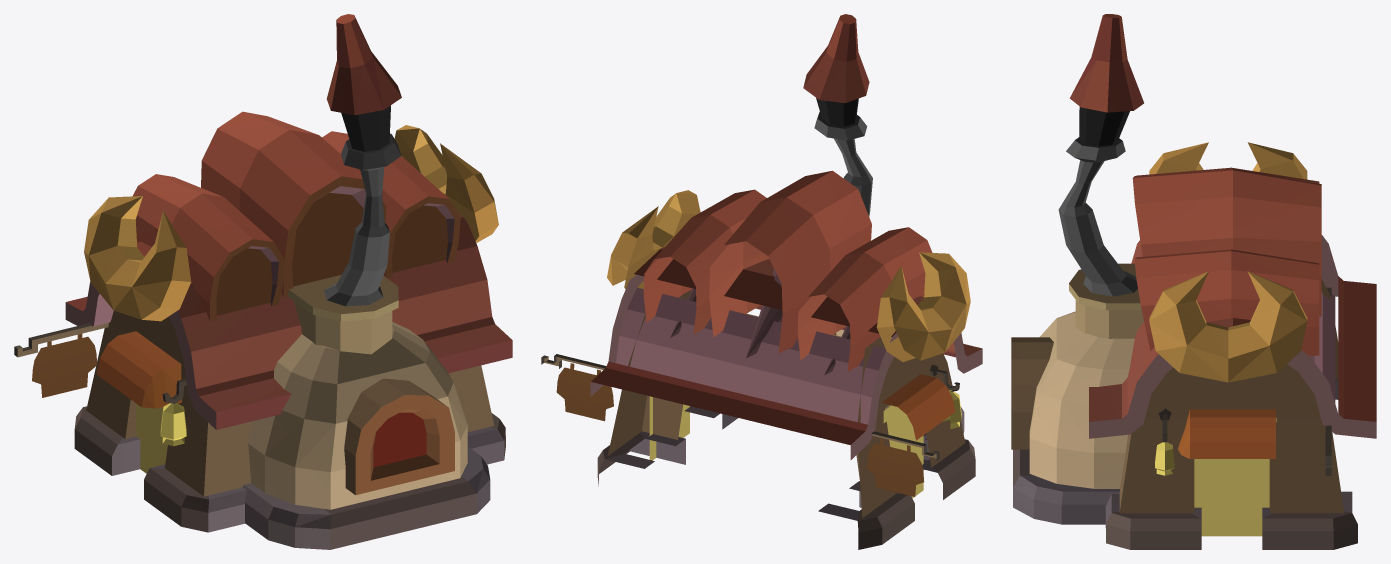
The model's file is building14.fbx.
3 views of the same model, side by side, from view 1: azimuth 30°, elevation 25°; view 2: azimuth 150°, elevation 25°; view 3: azimuth 270°, elevation 25° (orthographic). The views are drawn at different scales.
Visible parts, largest first — view 1: building14; view 2: building14; view 3: building14.
Part boxes in pixels (<box>): building14: <box>14,14,512,549</box>; building14: <box>541,14,982,549</box>; building14: <box>1011,14,1376,549</box>.
Size of the model in its own units: 2.42 by 2.45 by 1.78.
Materials: 1 (1 with a texture image).
